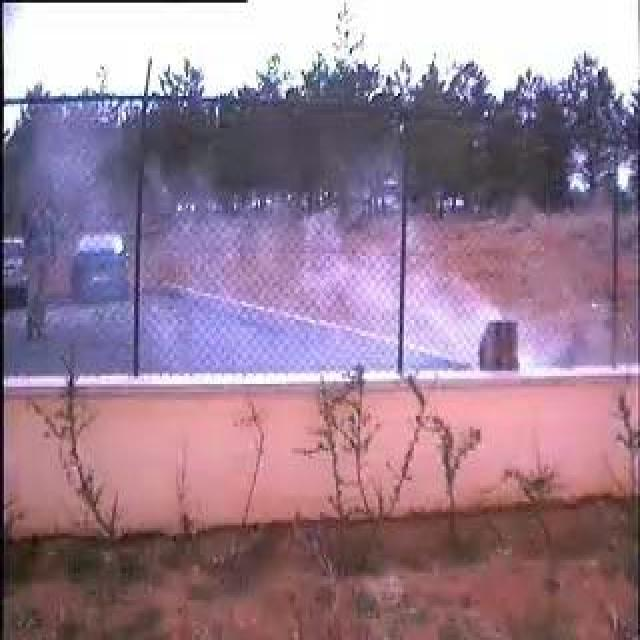Smoke: (253, 171, 549, 373)
